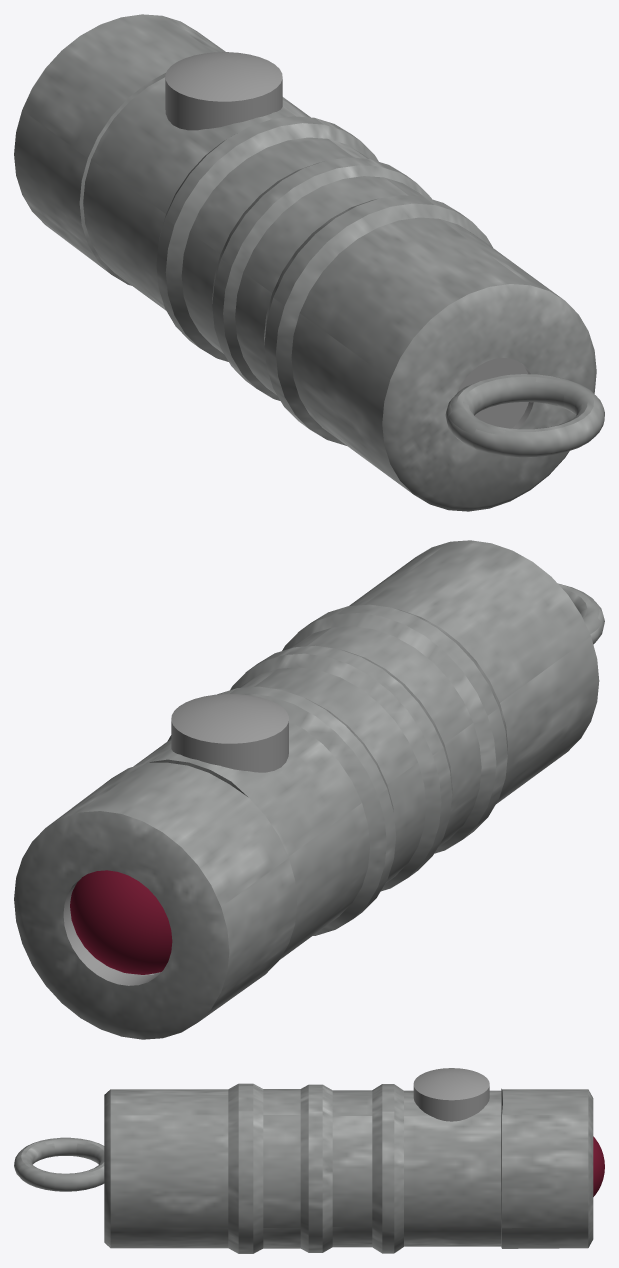
File: laser-pointer.fbx
The picture shows the model from 3 angles, top to bottom: view 1: azimuth 30°, elevation 25°; view 2: azimuth 150°, elevation 25°; view 3: azimuth 270°, elevation 25°; orthographic projection. The views are drawn at different scales.
Visible parts, largest first — view 1: Cylinder; view 2: Cylinder, sphere; view 3: Cylinder, sphere.
Part boxes in pixels (<box>): Cylinder: <box>14,14,604,511</box>; Cylinder: <box>14,540,604,1039</box>; sphere: <box>70,870,172,974</box>; Cylinder: <box>14,1068,593,1253</box>; sphere: <box>593,1136,604,1196</box>.
Size of the model in its own units: 186 by 198 by 638.
3 materials, 1 textured.
